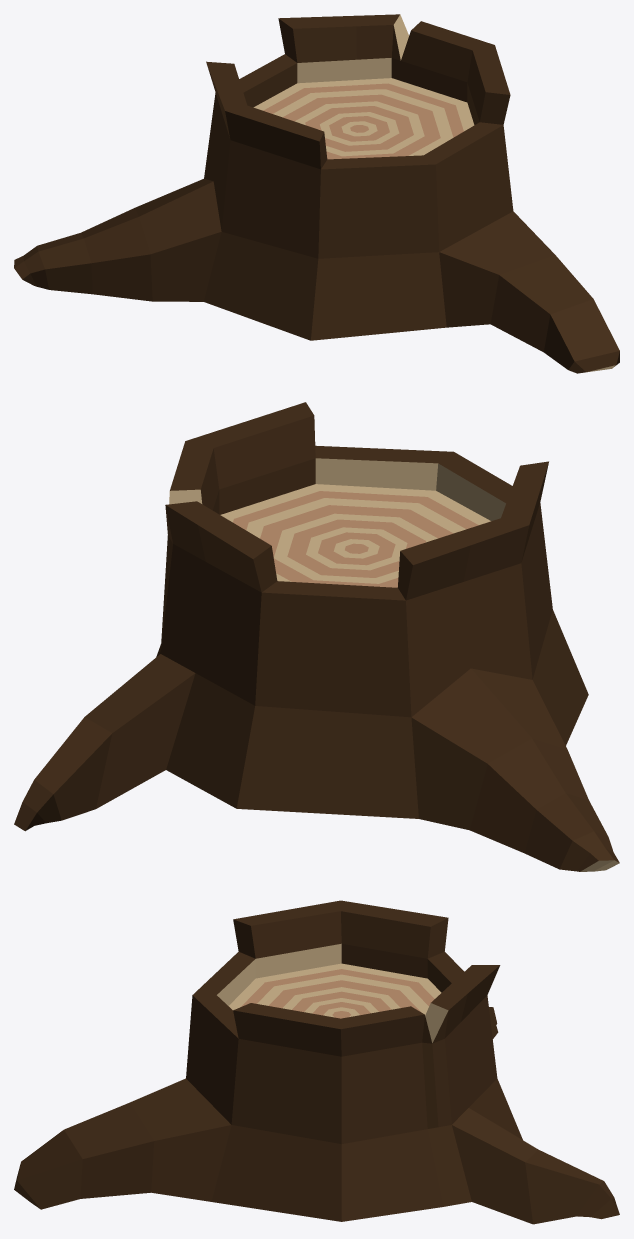
The model's file is Baumstumpf.fbx.
The picture shows the model from 3 angles, top to bottom: view 1: azimuth 30°, elevation 25°; view 2: azimuth 150°, elevation 25°; view 3: azimuth 270°, elevation 25°; orthographic projection. The views are drawn at different scales.
Visible parts, largest first — view 1: Baumstumpf; view 2: Baumstumpf; view 3: Baumstumpf.
Part boxes in pixels (<box>): Baumstumpf: <box>14,14,619,373</box>; Baumstumpf: <box>14,402,619,871</box>; Baumstumpf: <box>14,900,619,1224</box>.
Bounding box in the file's own units: 116 × 52.01 × 145.
